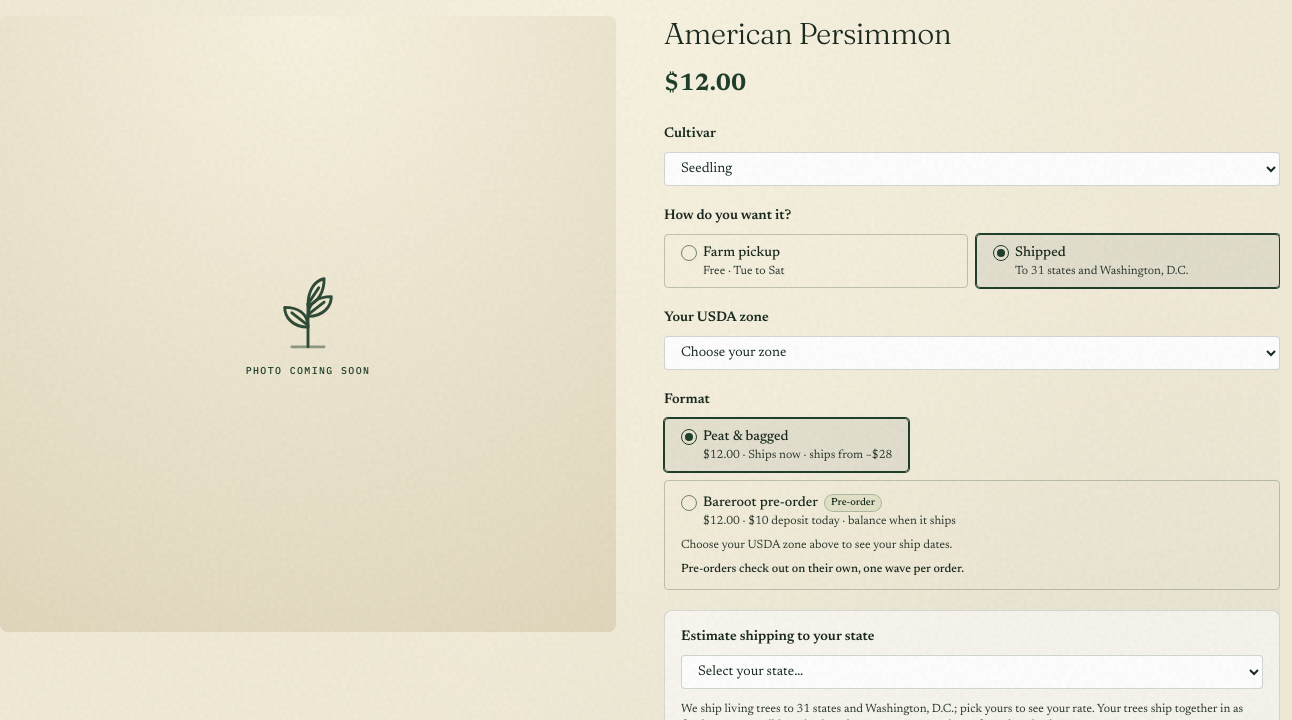
Test case: ProductView: Farm pickup / Shipped gate › Oct 7 Farm pickup: Potted + Bareroot pre-order, without a ship quote
What coordinates should you click on to do the following:
click the button "Farm pickup Free · Tue to Sat"
I would click on:
 (742, 253)
Its box is [664, 234, 968, 288].
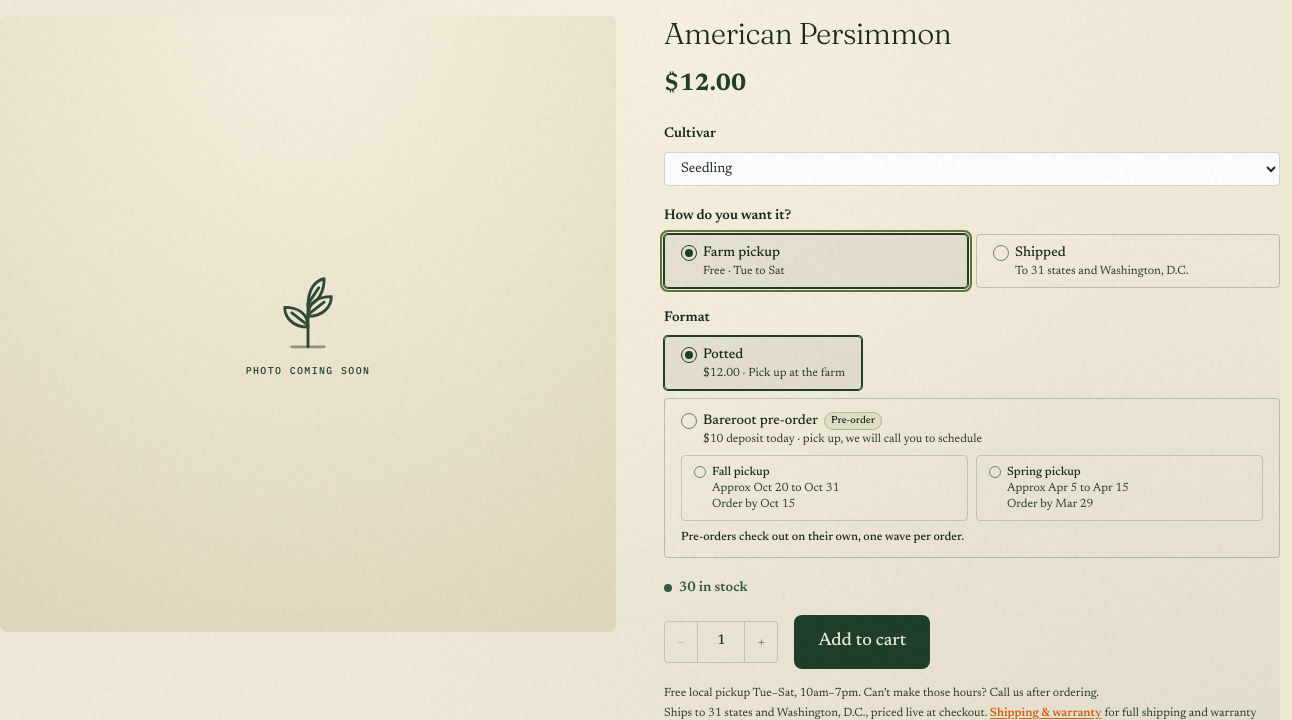
Check: the label labelled "Your USDA zone" is gone
Check: the text with class "block" reads "$10 deposit today · pick up, we will call you to schedule", box [703, 433, 982, 445]
Check: the button "Fall pickup Approx Oct 20 to Oct 31 Order by Oct 15" is shown, box [681, 455, 968, 521]
